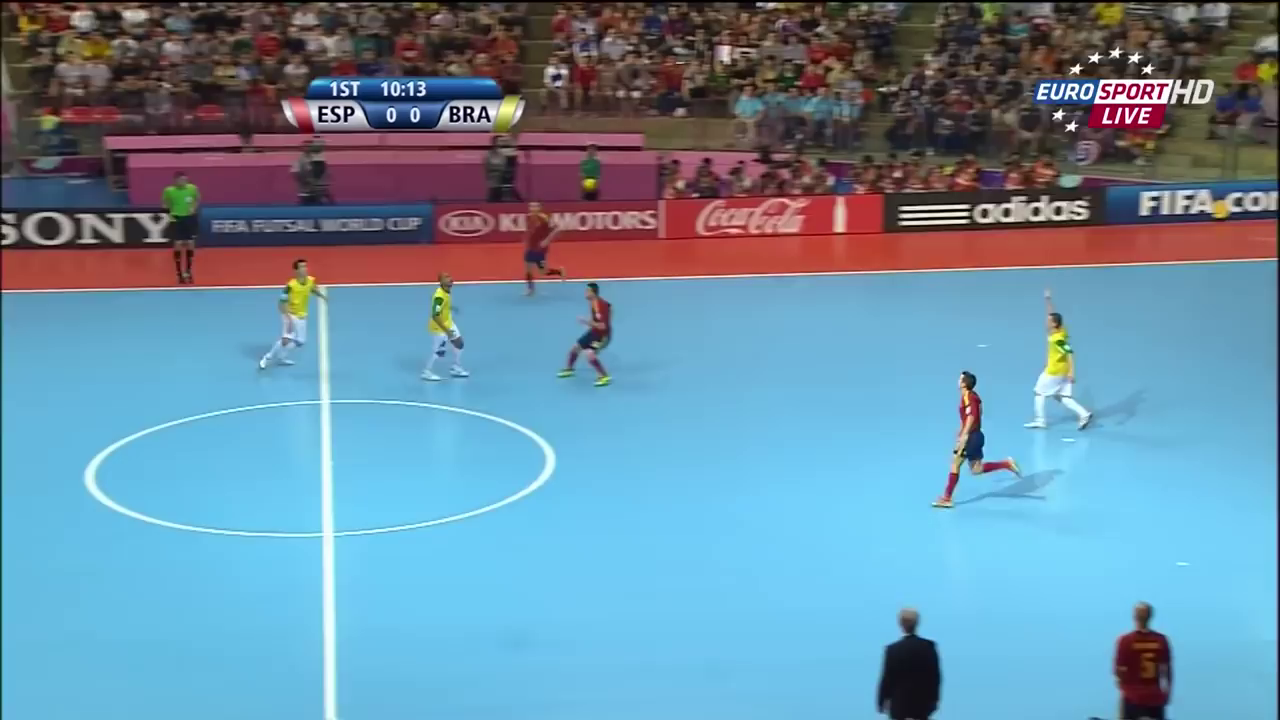person: (930, 373, 1024, 518), (1026, 297, 1091, 435), (262, 259, 330, 380), (561, 283, 617, 386), (420, 269, 468, 380), (512, 200, 562, 298)
